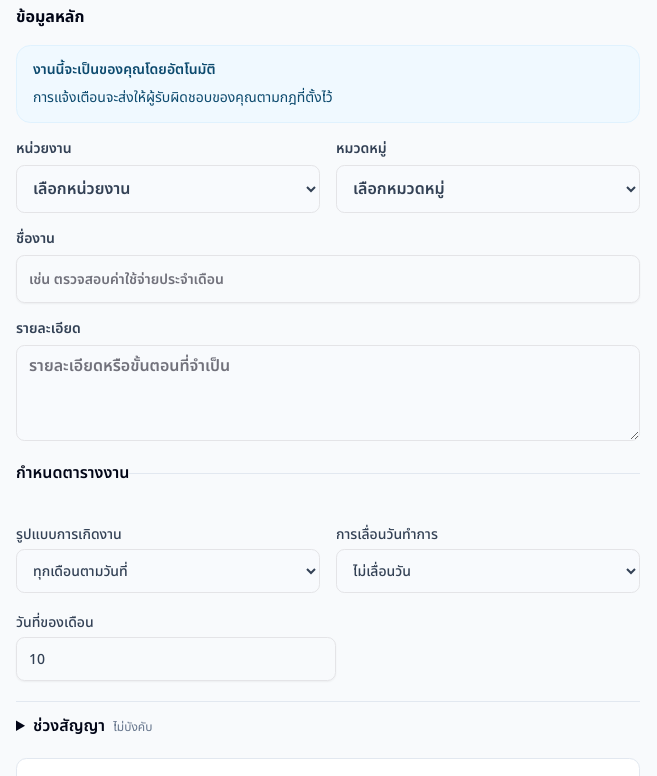
LiffRoutineApp › shows the same live upcoming-date preview in the LIFF form
Select "ครั้งเดียว" in the dropdown labelled "รูปแบบการเกิดงาน" at (168, 571), box [16, 549, 320, 593]
(page scrolled)
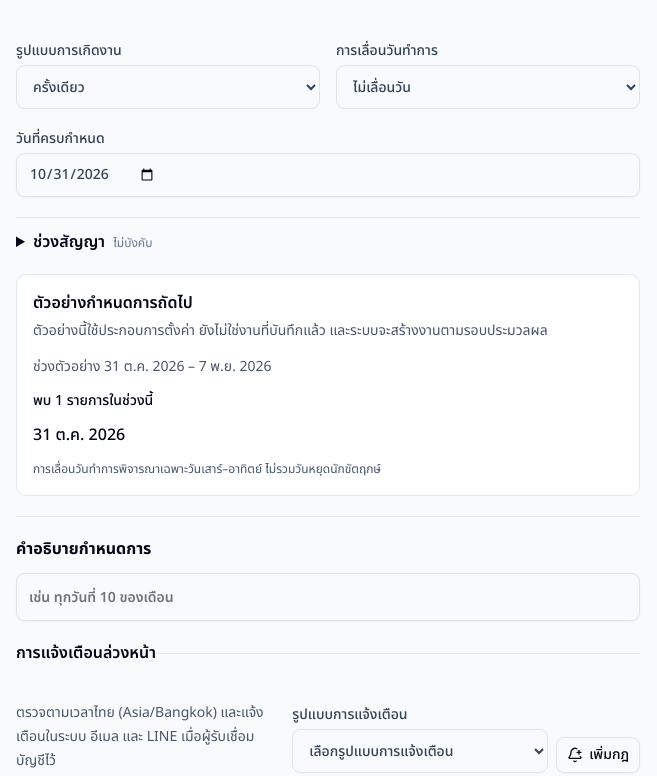
Expected: the element "ตัวอย่างกำหนดการถัดไป" shows "พบ 1 รายการในช่วงนี้", [33, 390, 153, 411]
